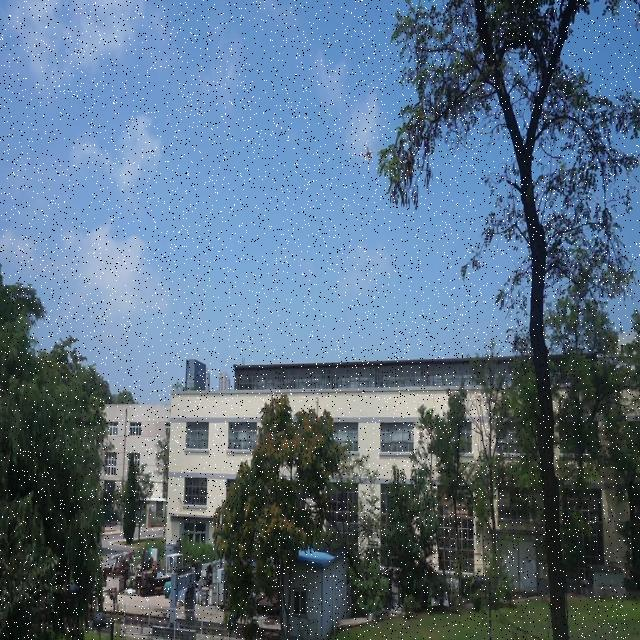UAV: (359, 138, 375, 164)
